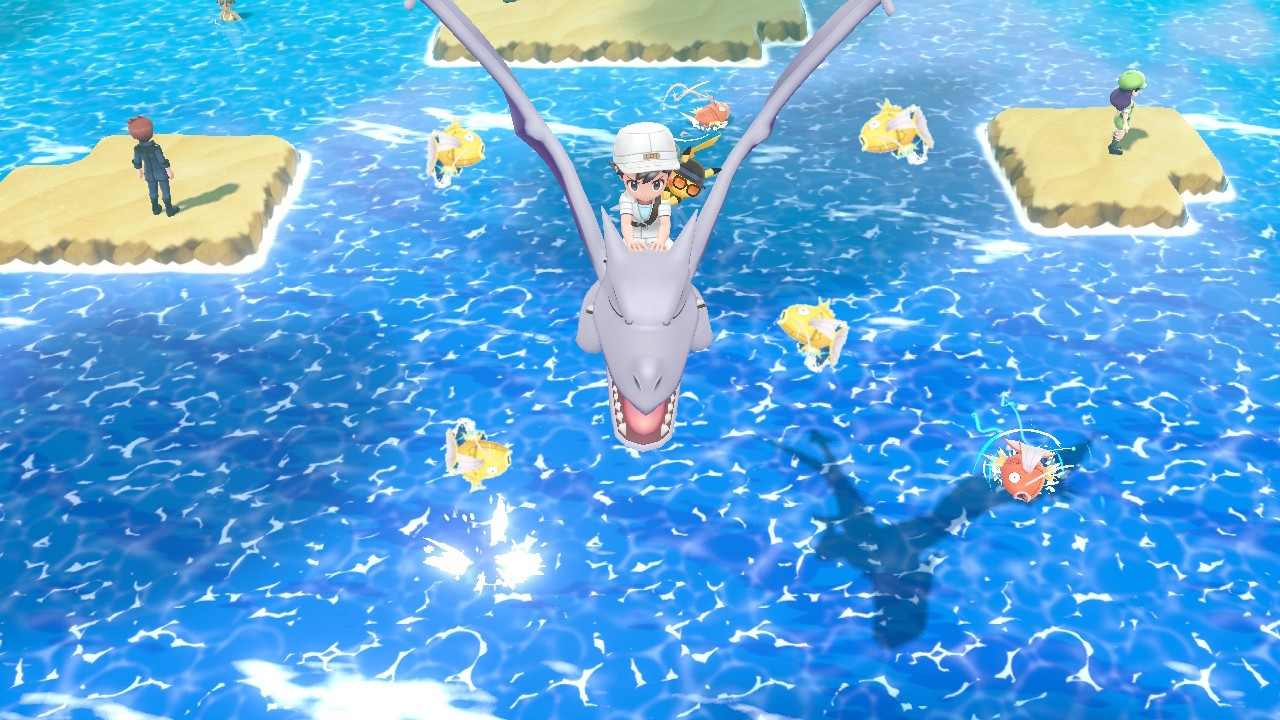Golden: (775, 297, 850, 373), (854, 97, 938, 164), (421, 121, 488, 185), (443, 427, 513, 488)
